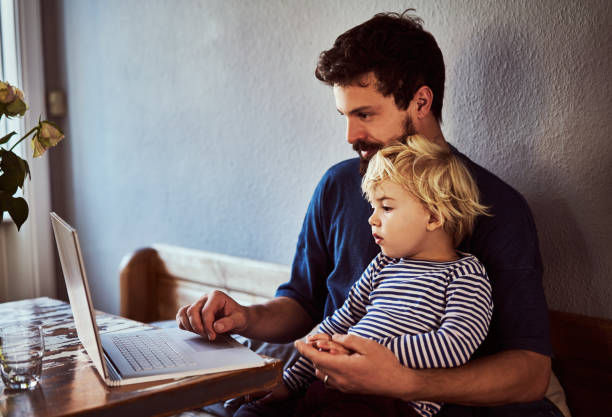without mask: (361, 159, 446, 266), (330, 62, 415, 169)
